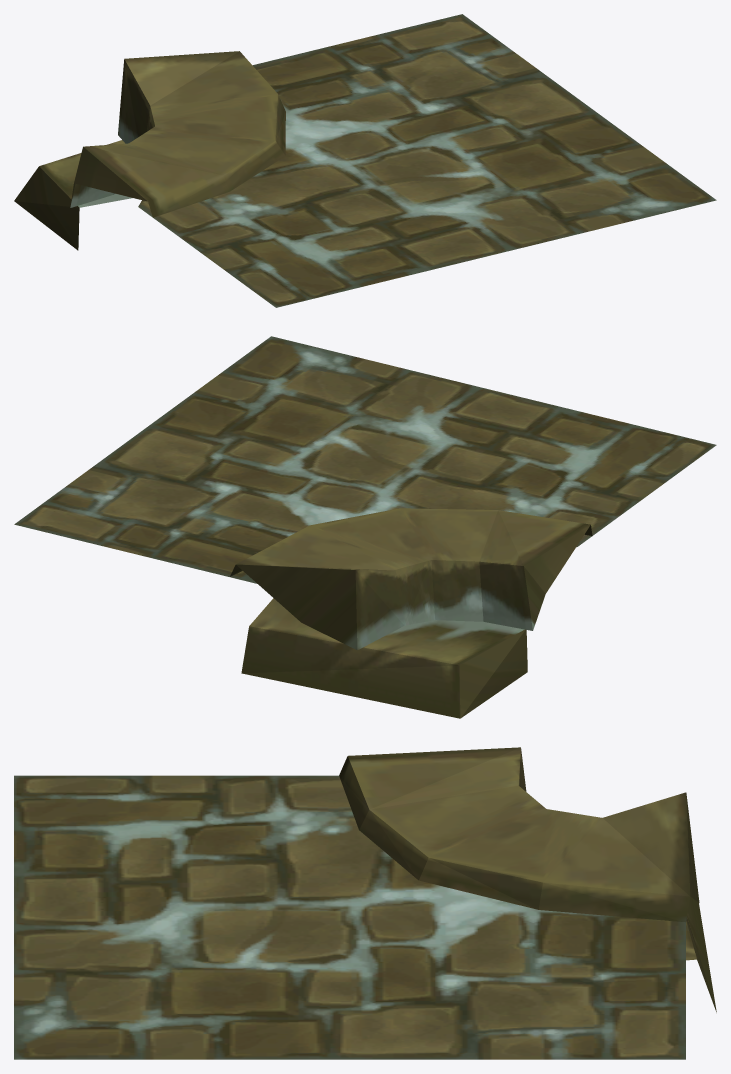
Rendered from tundra_dias_concave_01.fbx.
The picture shows the model from 3 angles, top to bottom: view 1: azimuth 30°, elevation 25°; view 2: azimuth 150°, elevation 25°; view 3: azimuth 270°, elevation 25°; orthographic projection. The views are drawn at different scales.
Visible parts, largest first — view 1: obj0.134; view 2: obj0.134; view 3: obj0.134.
Part boxes in pixels (box(x1,y1,x2,y2)): obj0.134: box(14, 14, 716, 307); obj0.134: box(14, 336, 716, 718); obj0.134: box(14, 747, 716, 1059).
Bounding box in the file's own units: 4.15 × 1.04 × 4.18.
